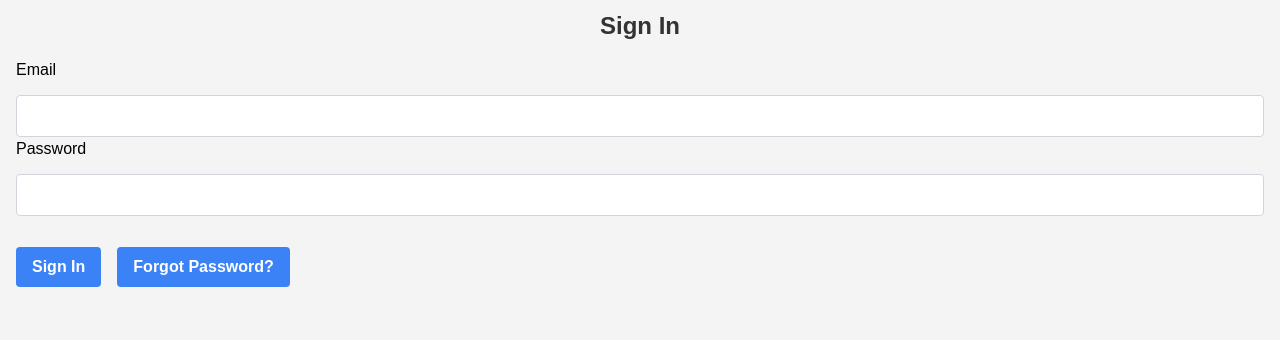
Scenario: SignIn Component › handles sign in with incorrect credentials
The width and height of the screenshot is (1280, 340).
Type "wrong@example.com" into the field labelled "Email".
click(640, 116); type("wrong@example.com")  # box [16,95,1264,137]
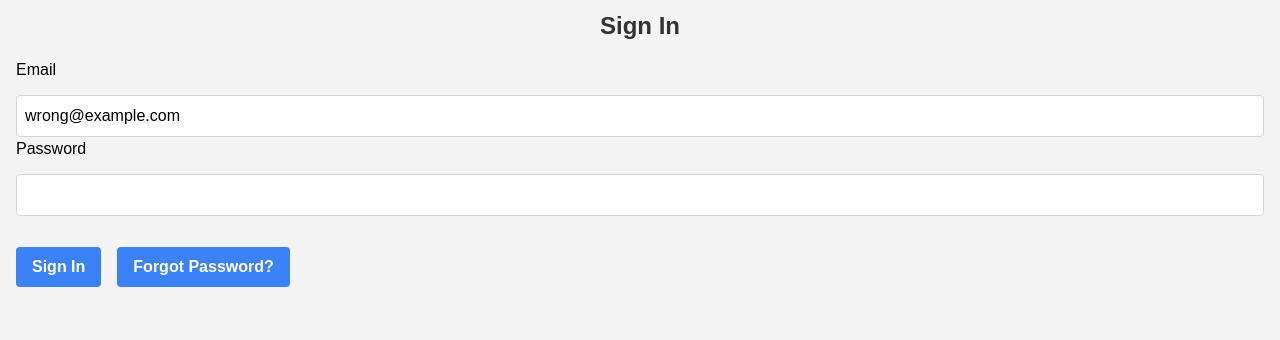
Type "wrongpassword" into the password field labelled "Password".
click(640, 195); type("wrongpassword")  # box [16,174,1264,216]
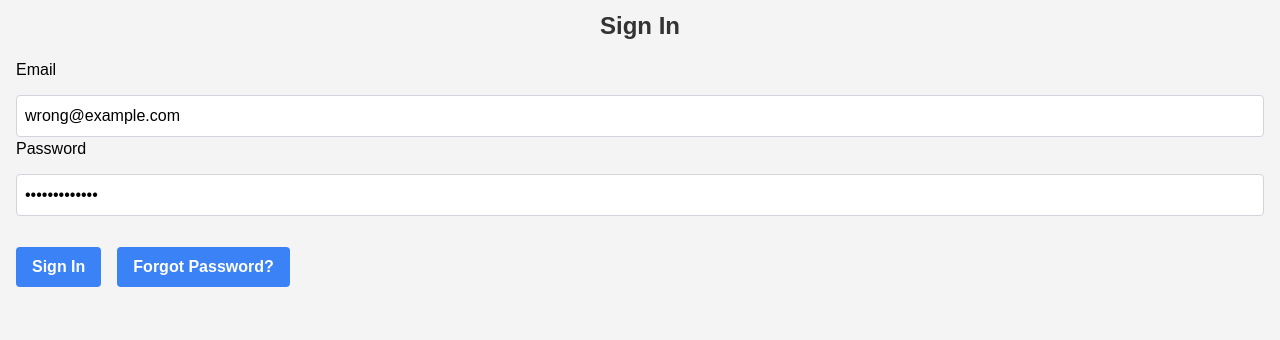
Click the button "Sign In".
click(59, 267)  # box [16,247,101,287]
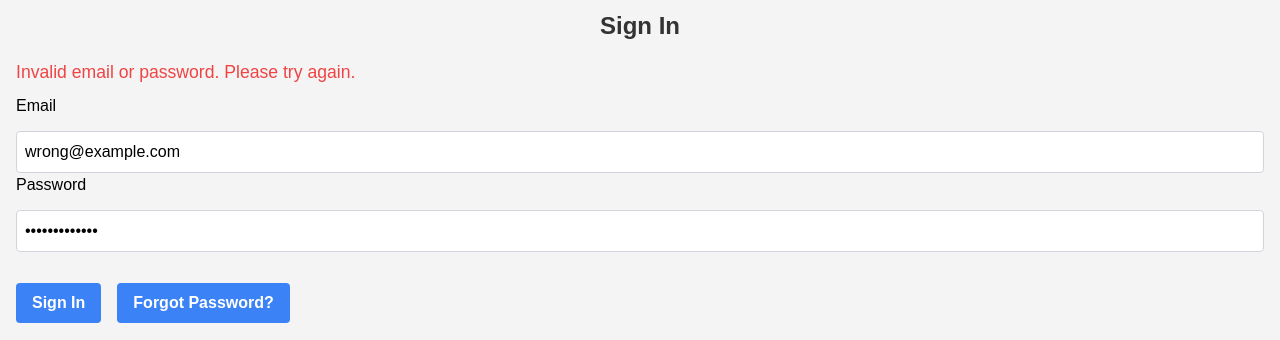
Expected: the text "Invalid email or password. Please try again." is shown, [16,62,355,82]
